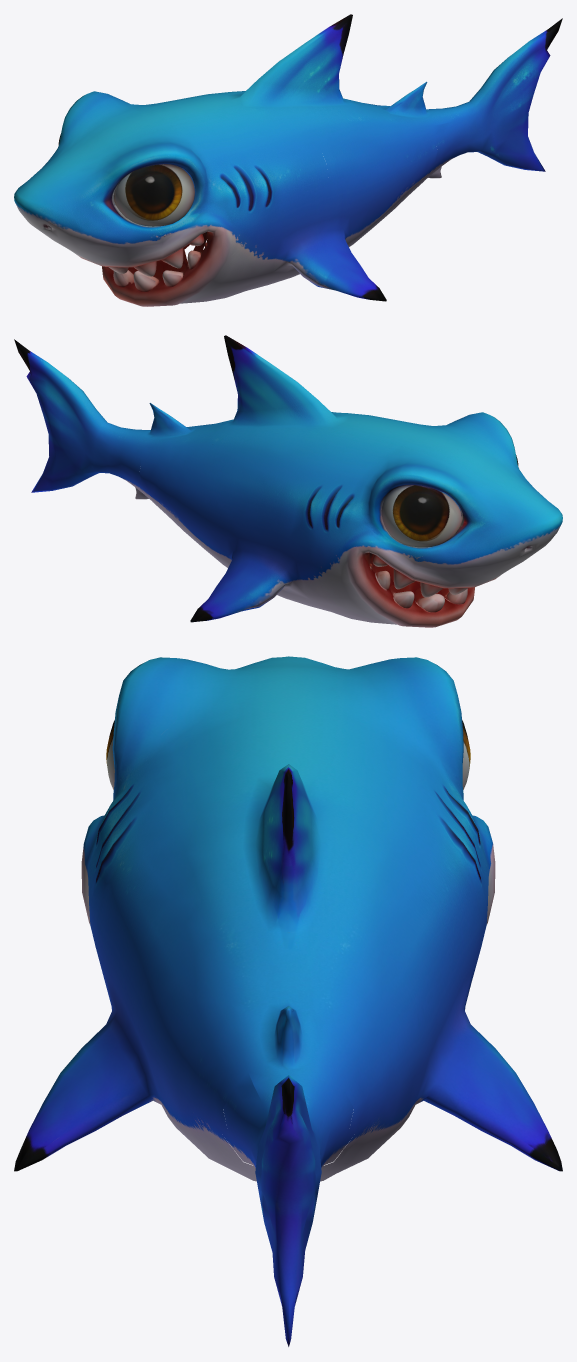
The model's file is blue shark 3d model.glb.
The picture shows the model from 3 angles, top to bottom: view 1: azimuth 30°, elevation 25°; view 2: azimuth 150°, elevation 25°; view 3: azimuth 270°, elevation 25°; orthographic projection. The views are drawn at different scales.
Parts seen in each view (by area): view 1: af1d075e-aa53-4e17-a248-99987855d011; view 2: af1d075e-aa53-4e17-a248-99987855d011; view 3: af1d075e-aa53-4e17-a248-99987855d011.
Boxes of the visible parts, box(x1,y1,x2,y2) form: af1d075e-aa53-4e17-a248-99987855d011: box(14, 14, 562, 306); af1d075e-aa53-4e17-a248-99987855d011: box(14, 335, 562, 627); af1d075e-aa53-4e17-a248-99987855d011: box(14, 656, 562, 1346).
Size of the model in its own units: 0.9995 by 0.4243 by 0.4565.
Materials: 1 (1 with a texture image).
